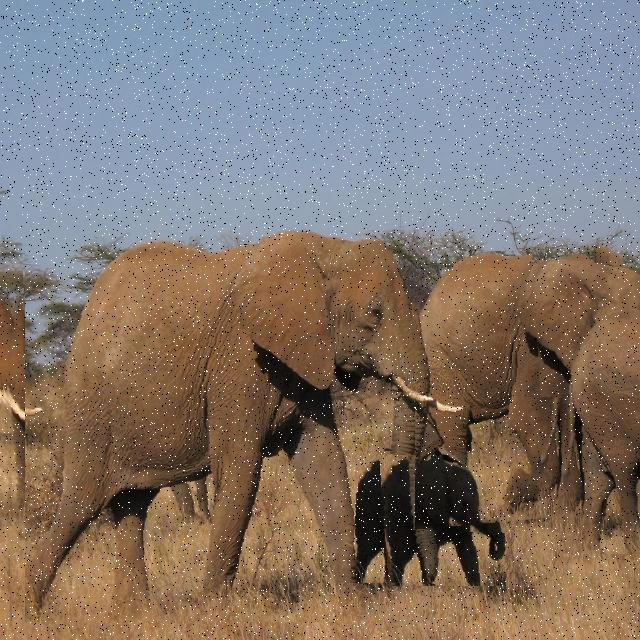elephant: (25, 230, 476, 624), (415, 251, 592, 531), (554, 306, 640, 554), (531, 238, 640, 397), (379, 454, 506, 586), (0, 297, 65, 522)
